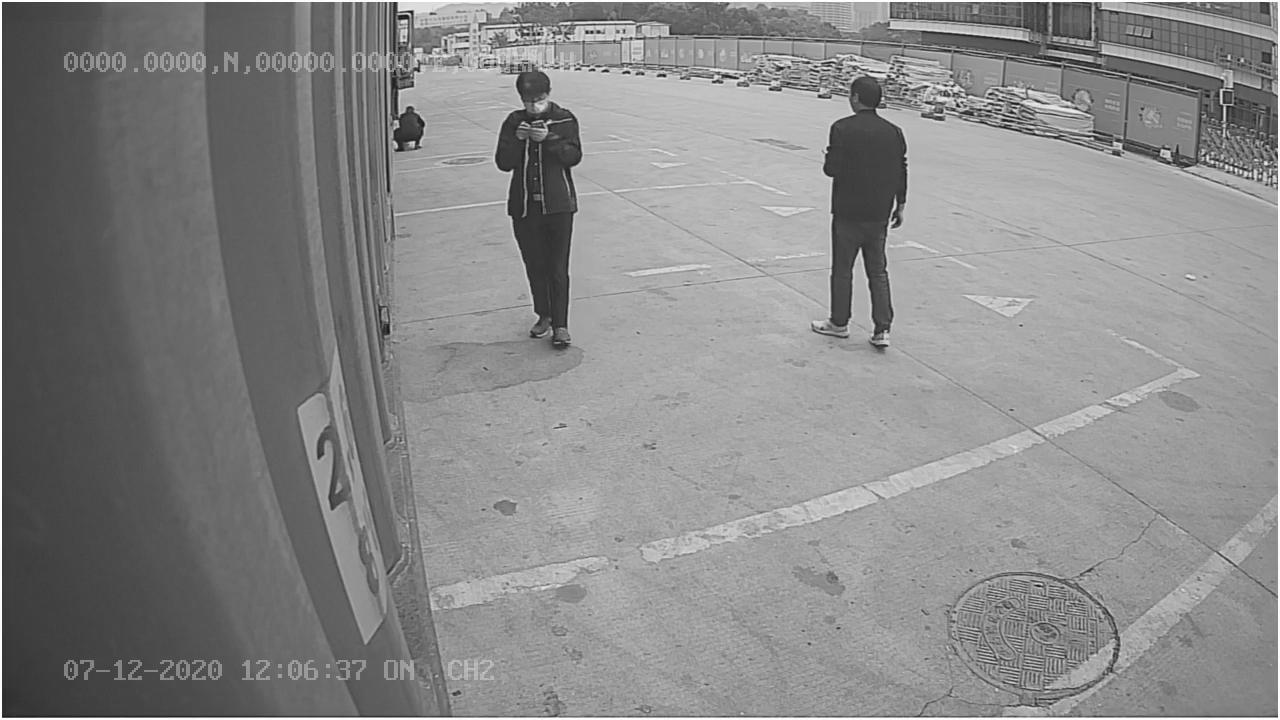person: (809, 70, 914, 348), (493, 65, 582, 349)
